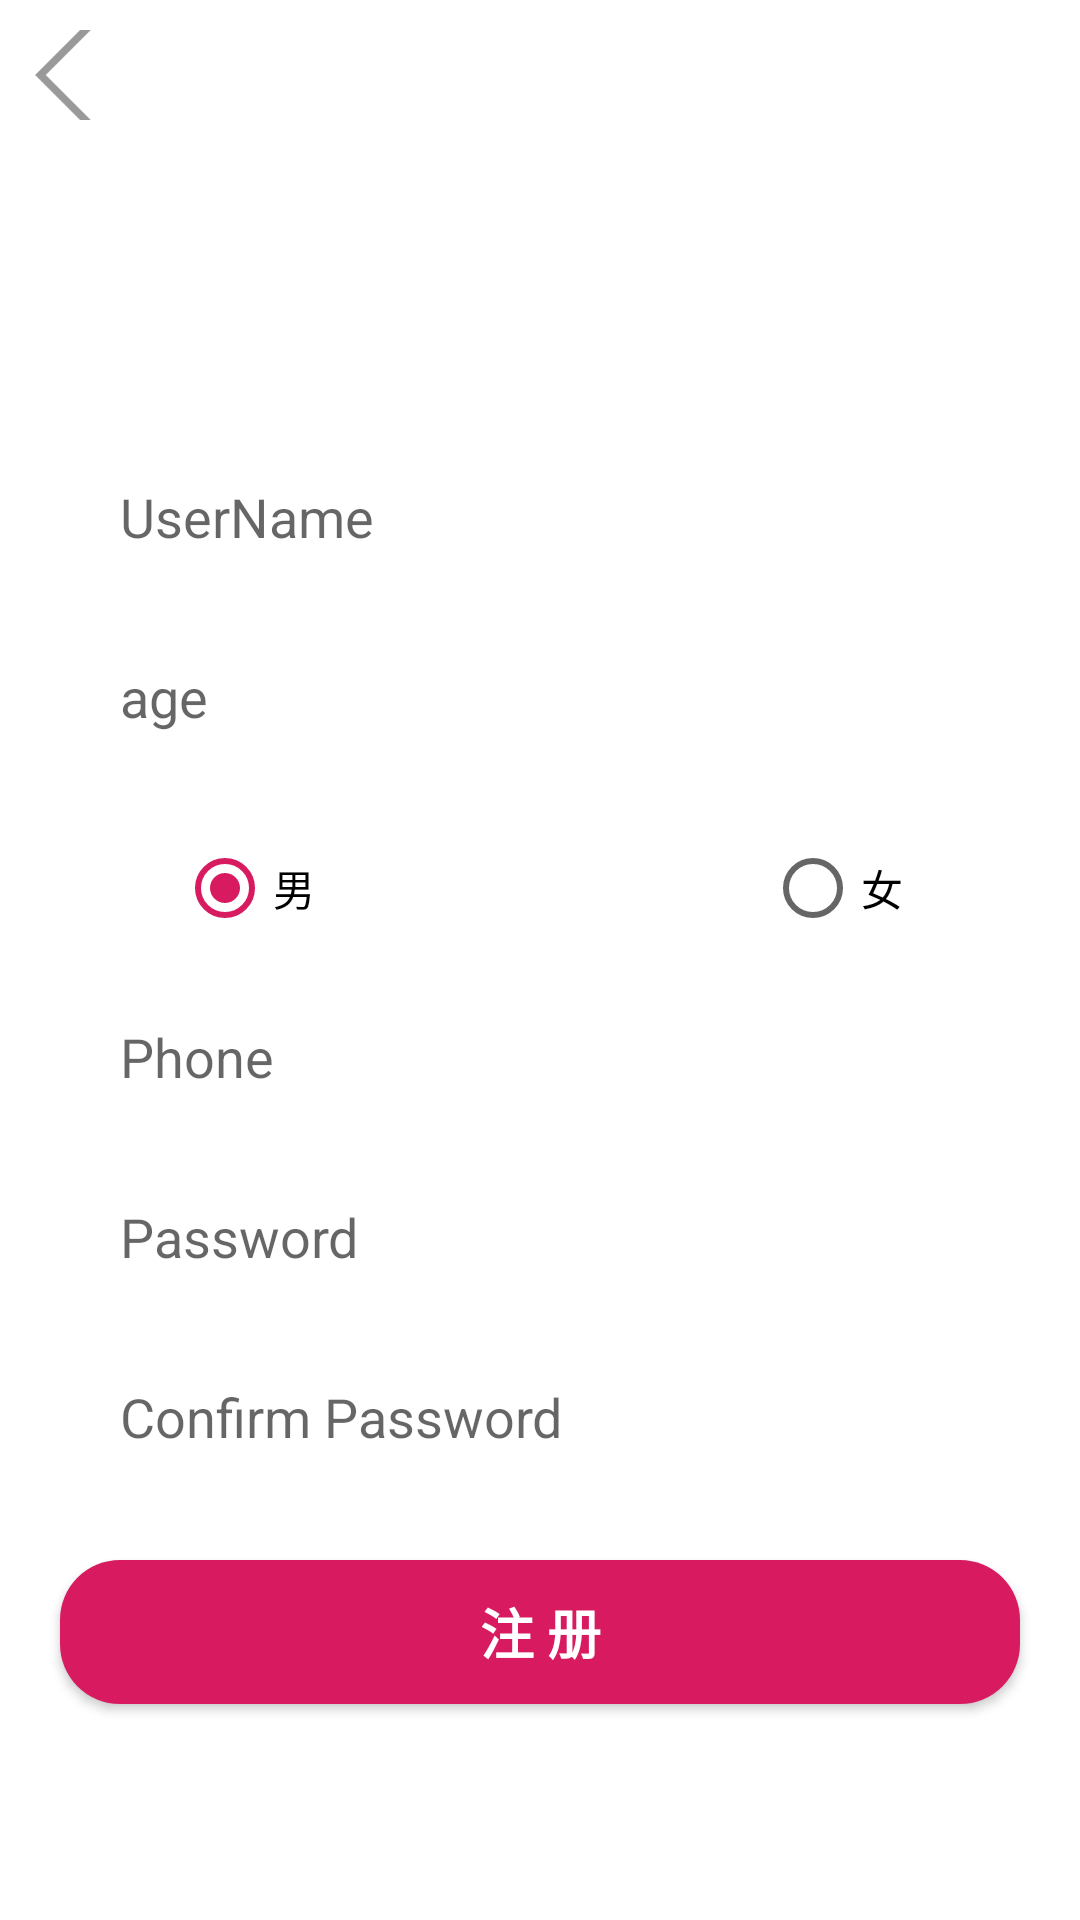

Icons on this 1080 x 1920 Android screen, each with the point to tap as (x=x, y=y):
return pic: (x=63, y=75)
